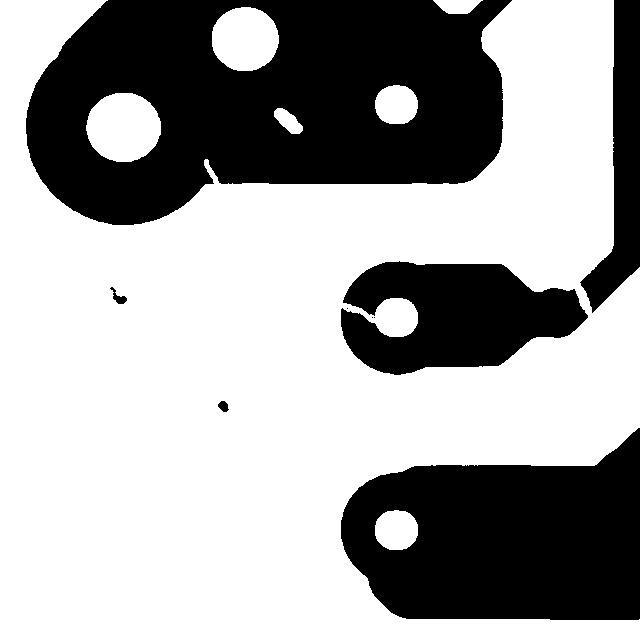copper: (100, 277, 136, 313), (208, 391, 238, 421)
mousebite: (194, 149, 233, 204)
open: (560, 267, 603, 328), (328, 293, 389, 332)
pin-hole: (264, 98, 312, 143)
